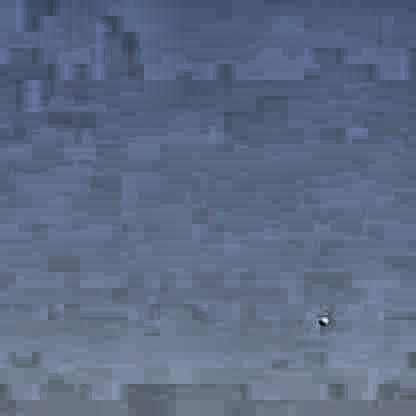golfball: (315, 315, 325, 323)
